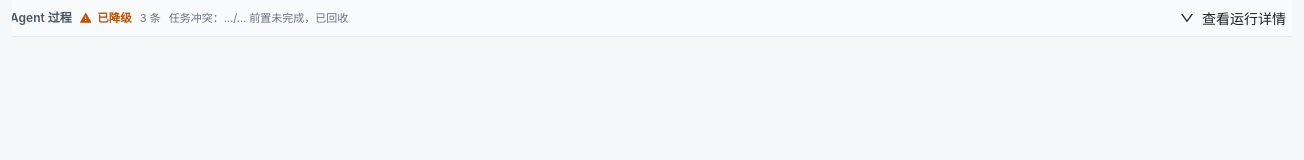
Scenario: AgentActivityPanel › Batch 15：三类事件的字段缺失时退回 stageText 占位文案（不抛错、不空行）
What coordinates should you click on to do the following:
click the button "查看运行详情"
I would click on:
 (1232, 18)
Its box is [1172,6,1292,30].
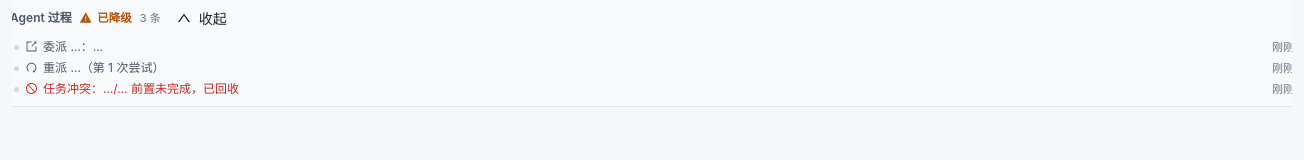
Expected: the text "任务冲突：…/… 前置未完成，已回收" is shown, [43,81,239,96]
Result: the text "委派 …：…" is shown at [43,39,103,54]
Result: the text "重派 …（第 1 次尝试）" is shown at [43,60,164,75]
